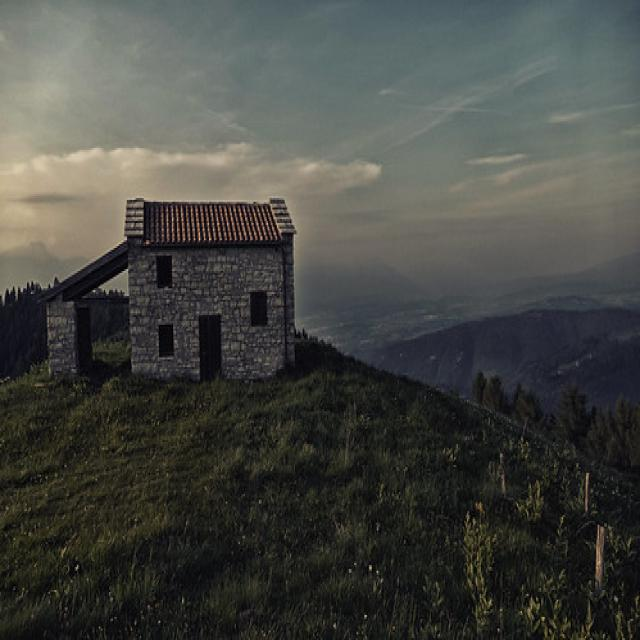building: (122, 192, 301, 390)
